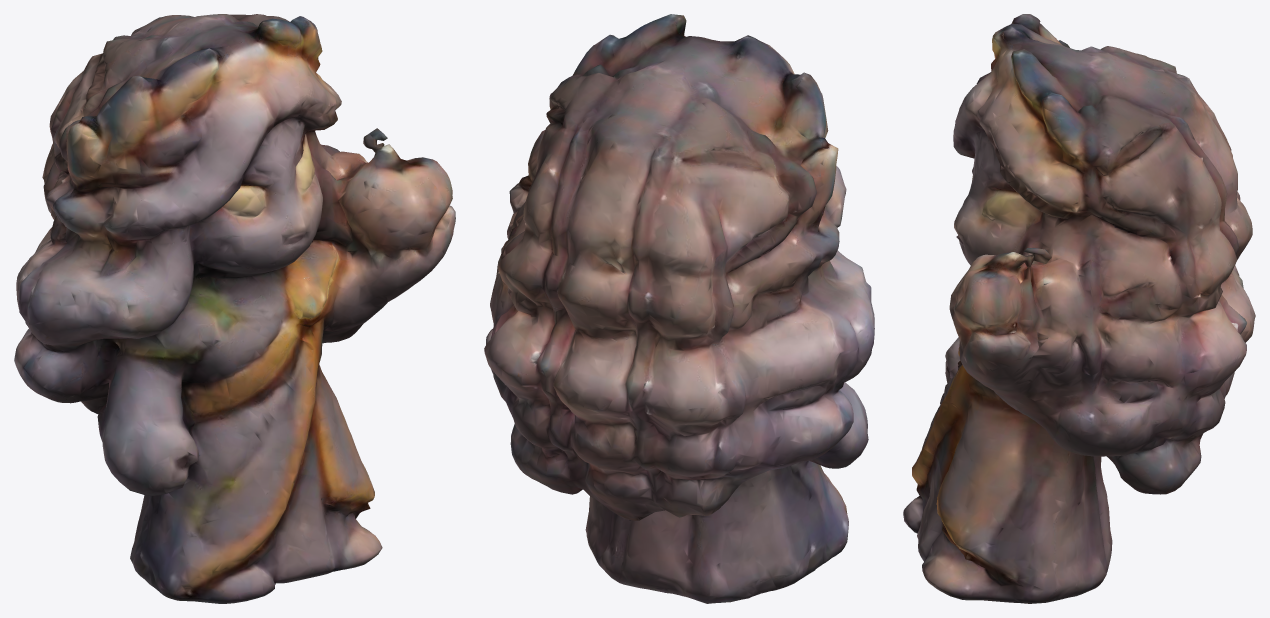
File: pomona.glb
The picture shows the model from 3 angles, left to right: view 1: azimuth 30°, elevation 25°; view 2: azimuth 150°, elevation 25°; view 3: azimuth 270°, elevation 25°; orthographic projection. The views are drawn at different scales.
Parts seen in each view (by area): view 1: geometry_0; view 2: geometry_0; view 3: geometry_0.
Part boxes in pixels (x1,y1,x2,y2): geometry_0: (14,14,455,603); geometry_0: (484,14,874,603); geometry_0: (903,14,1255,603).
Bounding box in the file's own units: 0.748 × 1 × 0.6037.
1 material, 1 textured.
